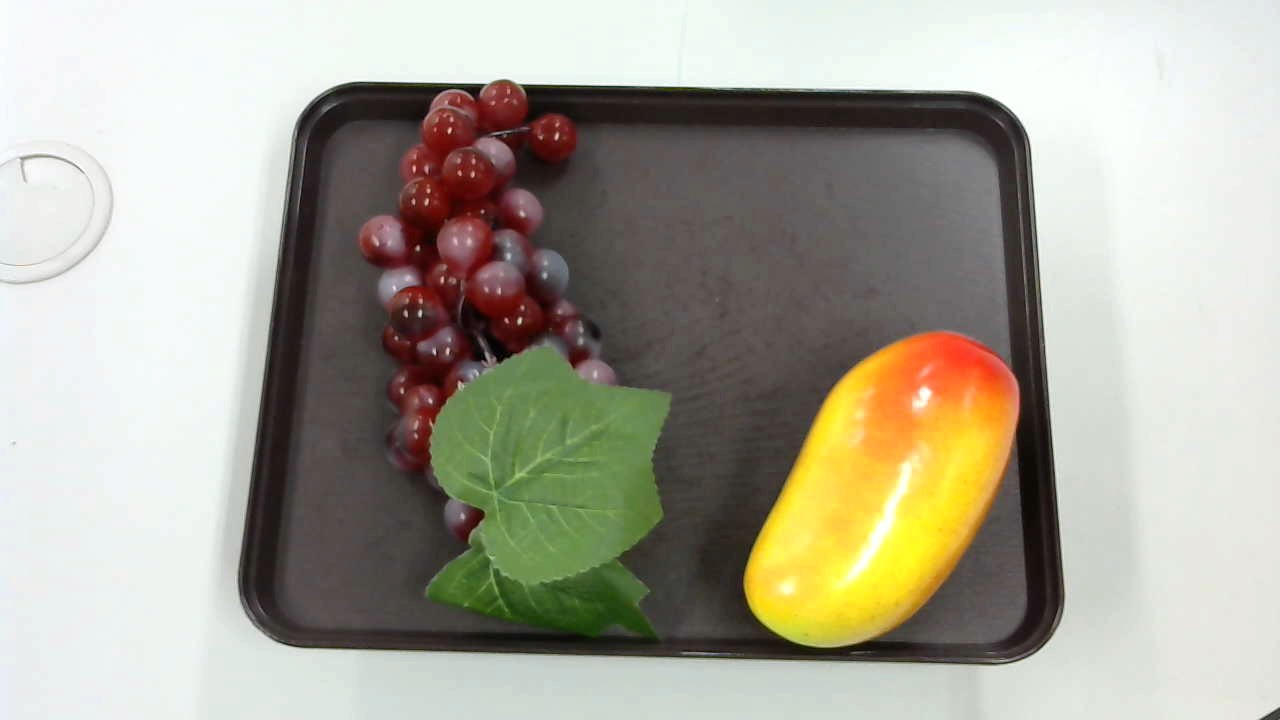grape: (346, 78, 671, 634)
red mango: (737, 330, 1022, 658)
